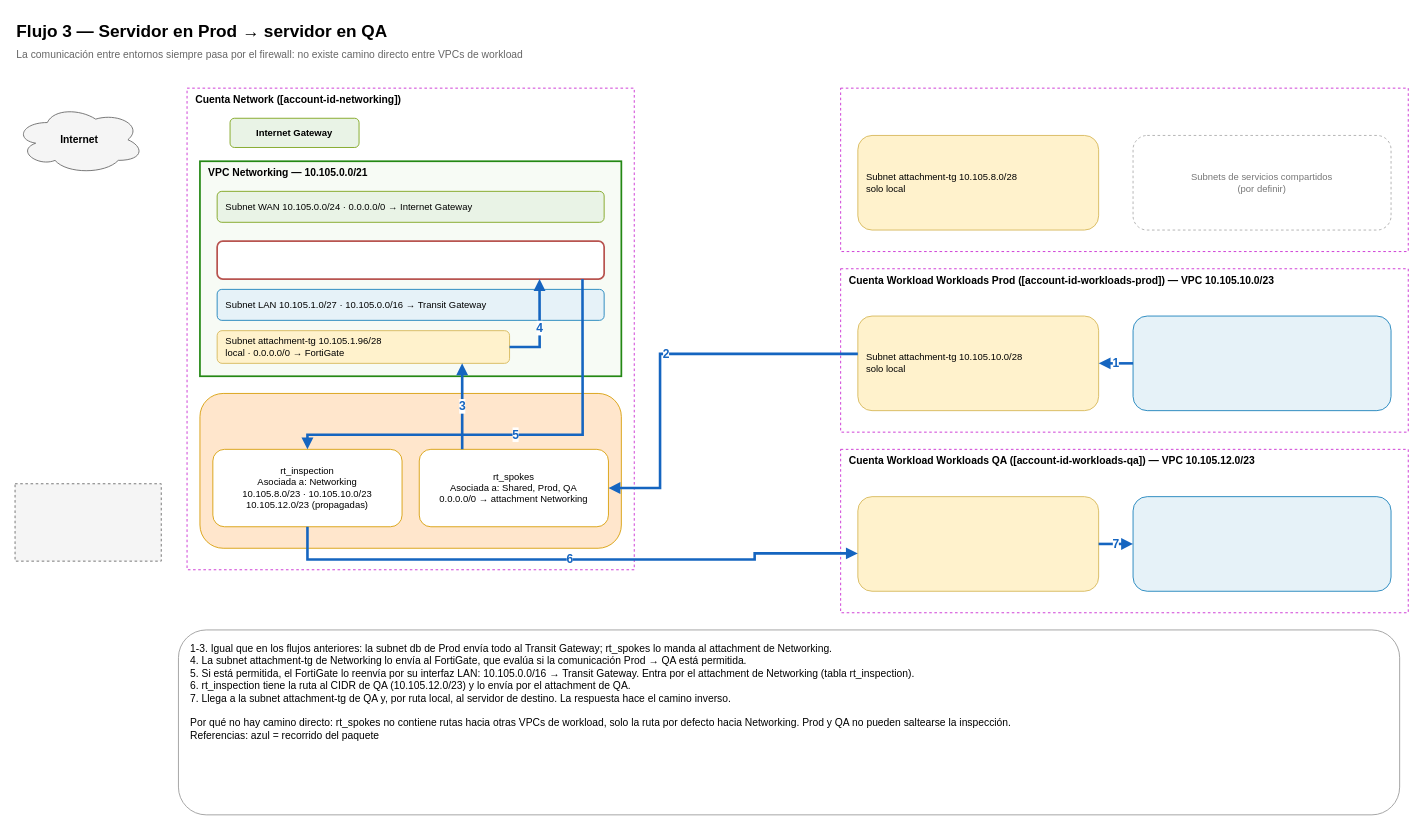
Some shapes in this 1423 by 830 pixel diagram are drawn without their labels. Each missing label, with the box of its shape:
Cuenta SharedServices ([account-id-shared-services]) — VPC 10.105.8.0/23: (840, 87, 1408, 252)
FortiGate (HA) — firewall / NAT / VPN [pendiente de despliegue]: (216, 240, 605, 280)
ON-PREMISE Cliente (on-premise) (VPN a futuro): (14, 483, 161, 561)
Subnet attachment-tg 10.105.12.0/28 solo local: (857, 496, 1099, 591)
Subnet db 10.105.10.32/27 0.0.0.0/0 → Transit Gateway: (1132, 315, 1391, 411)
Subnet db 10.105.12.32/27 0.0.0.0/0 → Transit Gateway: (1132, 496, 1391, 591)
Transit Gateway central (cuenta Network, compartido por RAM): (199, 393, 621, 548)
